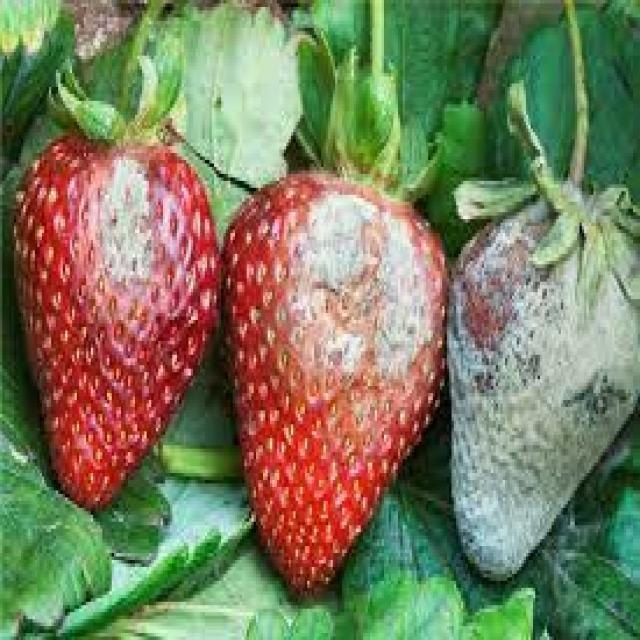Moho gris: (226, 155, 448, 588), (13, 130, 214, 512), (450, 175, 640, 576)
